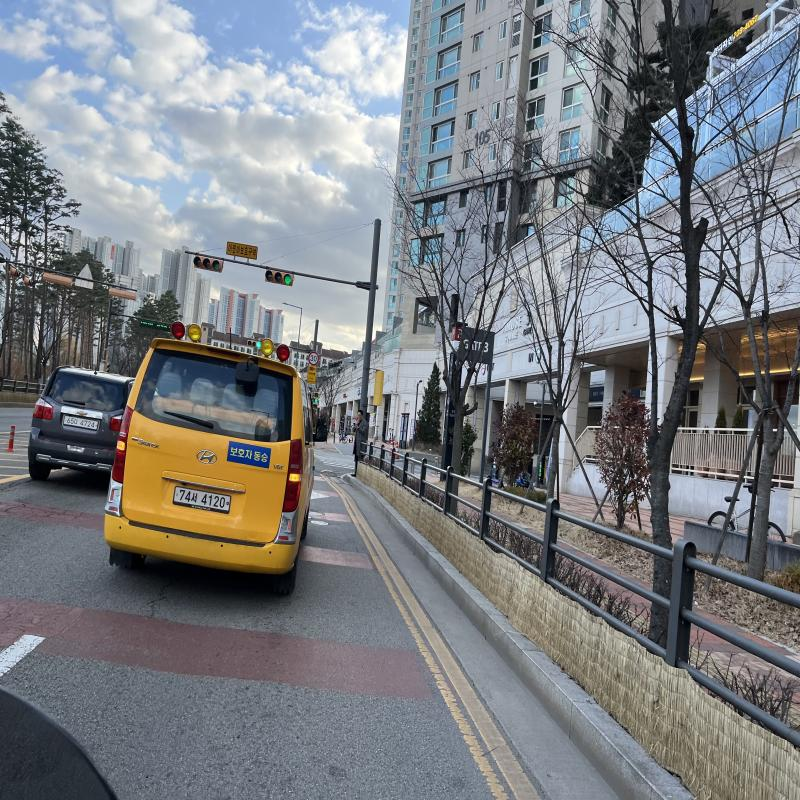green: (283, 273, 294, 286)
